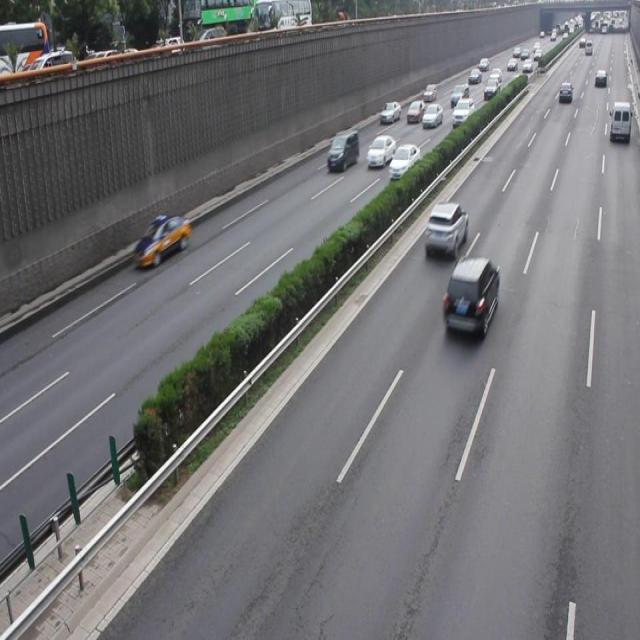car: (441, 254, 498, 340), (134, 212, 191, 266), (423, 200, 468, 257), (388, 142, 421, 179), (365, 133, 395, 169)
truck: (326, 130, 358, 173)
